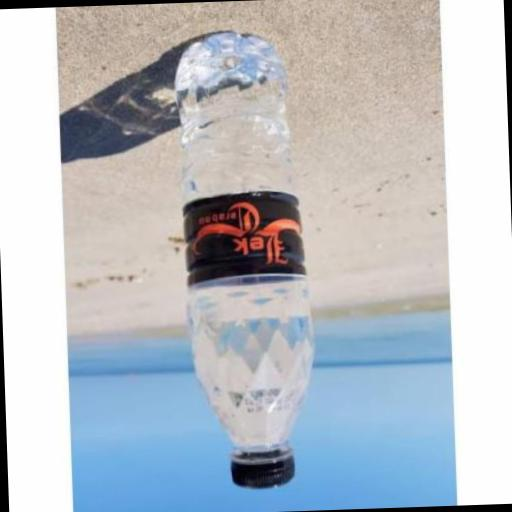Coca: (164, 24, 324, 498)
